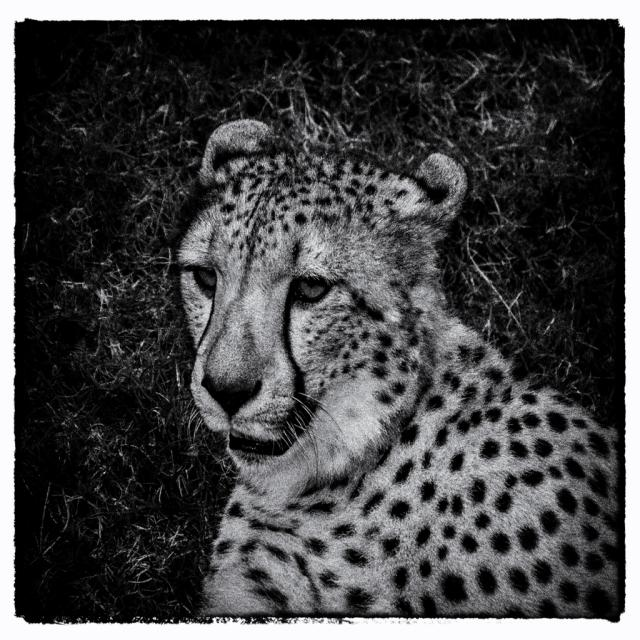Cheetah: (175, 116, 620, 617)
